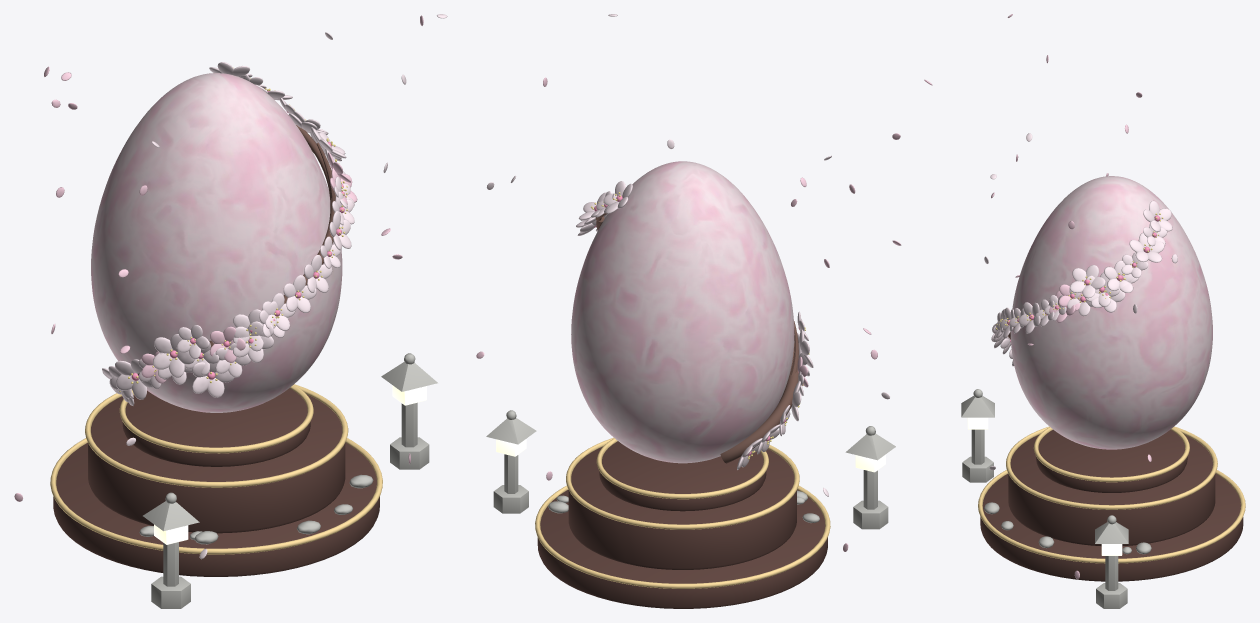
Rendered from sakuraspiritegg.glb.
The picture shows the model from 3 angles, left to right: view 1: azimuth 30°, elevation 25°; view 2: azimuth 150°, elevation 25°; view 3: azimuth 270°, elevation 25°; orthographic projection. The views are drawn at different scales.
Visible parts, largest first — view 1: SakuraSpiritEgg_Body, SakuraSpiritEgg_LacquerBase.001, SakuraSpiritEgg_LacquerBase, SakuraSpiritEgg_Cup, SakuraSpiritEgg_GoldRim, SakuraSpiritEgg_GoldRim.001, SakuraSpiritEgg_CupRim, SakuraSpiritEgg_LanternBase.001, SakuraSpiritEgg_LanternBase, SakuraSpiritEgg_LanternRoof.001, SakuraSpiritEgg_LanternRoof, SakuraSpiritEgg_LanternPost (+2 smaller); view 2: SakuraSpiritEgg_Body, SakuraSpiritEgg_LacquerBase.001, SakuraSpiritEgg_LacquerBase, SakuraSpiritEgg_Cup, SakuraSpiritEgg_GoldRim, SakuraSpiritEgg_GoldRim.001, SakuraSpiritEgg_CupRim, SakuraSpiritEgg_Branch, SakuraSpiritEgg_LanternBase.001, SakuraSpiritEgg_LanternBase, SakuraSpiritEgg_LanternRoof, SakuraSpiritEgg_LanternRoof.001; view 3: SakuraSpiritEgg_Body, SakuraSpiritEgg_LacquerBase.001, SakuraSpiritEgg_LacquerBase, SakuraSpiritEgg_Cup, SakuraSpiritEgg_GoldRim, SakuraSpiritEgg_GoldRim.001, SakuraSpiritEgg_CupRim, SakuraSpiritEgg_LanternBase, SakuraSpiritEgg_LanternBase.001, SakuraSpiritEgg_LanternRoof.001, SakuraSpiritEgg_LanternRoof, SakuraSpiritEgg_LanternPost.001 (+1 smaller).
Boxes of the visible parts, x1,y1,x2,y2 form: SakuraSpiritEgg_Body: [91, 73, 342, 412]; SakuraSpiritEgg_LacquerBase.001: [88, 394, 345, 533]; SakuraSpiritEgg_LacquerBase: [53, 442, 379, 576]; SakuraSpiritEgg_Cup: [122, 388, 310, 466]; SakuraSpiritEgg_GoldRim: [50, 438, 382, 554]; SakuraSpiritEgg_GoldRim.001: [85, 384, 348, 487]; SakuraSpiritEgg_CupRim: [119, 385, 313, 453]; SakuraSpiritEgg_LanternBase.001: [151, 576, 190, 608]; SakuraSpiritEgg_LanternBase: [390, 437, 429, 469]; SakuraSpiritEgg_LanternRoof.001: [143, 501, 199, 531]; SakuraSpiritEgg_LanternRoof: [381, 362, 437, 391]; SakuraSpiritEgg_LanternPost: [401, 402, 417, 447]; SakuraSpiritEgg_Body: [571, 161, 794, 463]; SakuraSpiritEgg_LacquerBase.001: [568, 446, 796, 569]; SakuraSpiritEgg_LacquerBase: [537, 489, 827, 608]; SakuraSpiritEgg_Cup: [599, 441, 766, 511]; SakuraSpiritEgg_GoldRim: [535, 485, 830, 588]; SakuraSpiritEgg_GoldRim.001: [566, 437, 799, 529]; SakuraSpiritEgg_CupRim: [596, 438, 768, 499]; SakuraSpiritEgg_Branch: [595, 213, 798, 463]; SakuraSpiritEgg_LanternBase.001: [853, 500, 888, 529]; SakuraSpiritEgg_LanternBase: [493, 485, 528, 513]; SakuraSpiritEgg_LanternRoof: [486, 418, 536, 444]; SakuraSpiritEgg_LanternRoof.001: [845, 433, 895, 460]; SakuraSpiritEgg_Body: [1010, 176, 1212, 449]; SakuraSpiritEgg_LacquerBase.001: [1008, 434, 1215, 546]; SakuraSpiritEgg_LacquerBase: [980, 473, 1243, 581]; SakuraSpiritEgg_Cup: [1036, 429, 1187, 492]; SakuraSpiritEgg_GoldRim: [978, 470, 1245, 563]; SakuraSpiritEgg_GoldRim.001: [1006, 426, 1217, 509]; SakuraSpiritEgg_CupRim: [1033, 427, 1189, 482]; SakuraSpiritEgg_LanternBase: [1096, 583, 1127, 608]; SakuraSpiritEgg_LanternBase.001: [962, 456, 993, 482]; SakuraSpiritEgg_LanternRoof.001: [961, 396, 994, 417]; SakuraSpiritEgg_LanternRoof: [1095, 522, 1128, 543]; SakuraSpiritEgg_LanternPost.001: [971, 429, 984, 464].
Bounding box in the file's own units: 5 × 5.95 × 3.57.
10 materials, 1 textured.
